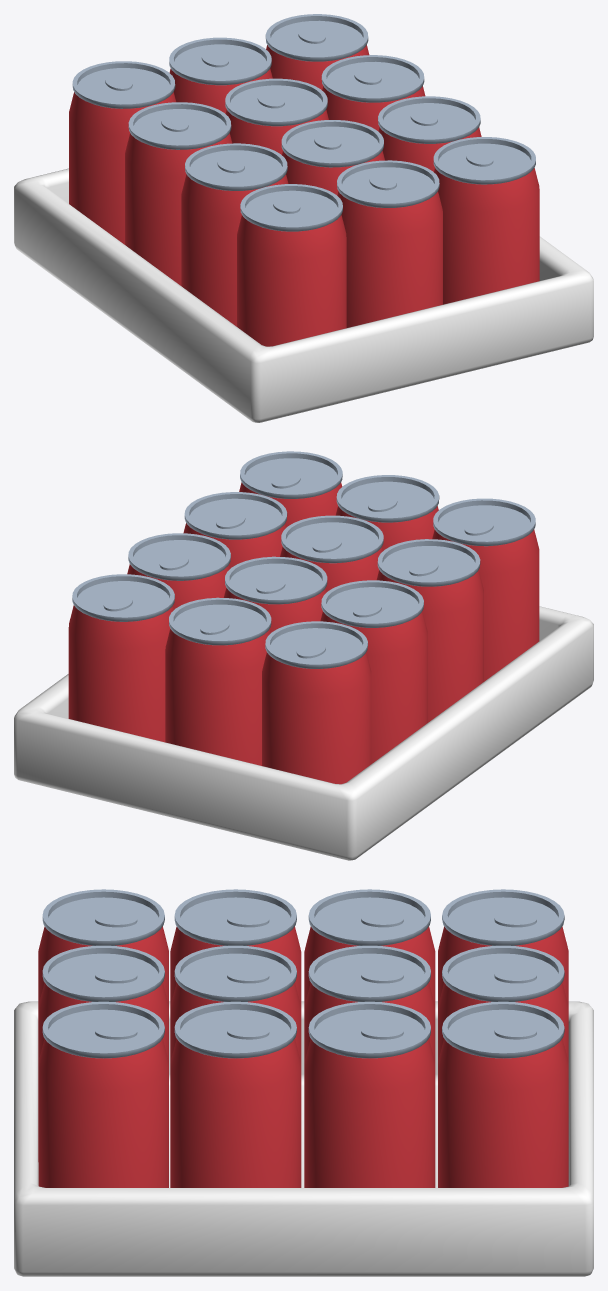
File: CaseBeer.fbx
The picture shows the model from 3 angles, top to bottom: view 1: azimuth 30°, elevation 25°; view 2: azimuth 150°, elevation 25°; view 3: azimuth 270°, elevation 25°; orthographic projection. The views are drawn at different scales.
Visible parts, largest first — view 1: Beer; view 2: Beer; view 3: Beer.
Part boxes in pixels (x1,y1,x2,y2): Beer: (14, 14, 593, 422); Beer: (14, 451, 593, 860); Beer: (14, 889, 593, 1276).
Bounding box in the file's own units: 258 × 127 × 318.
